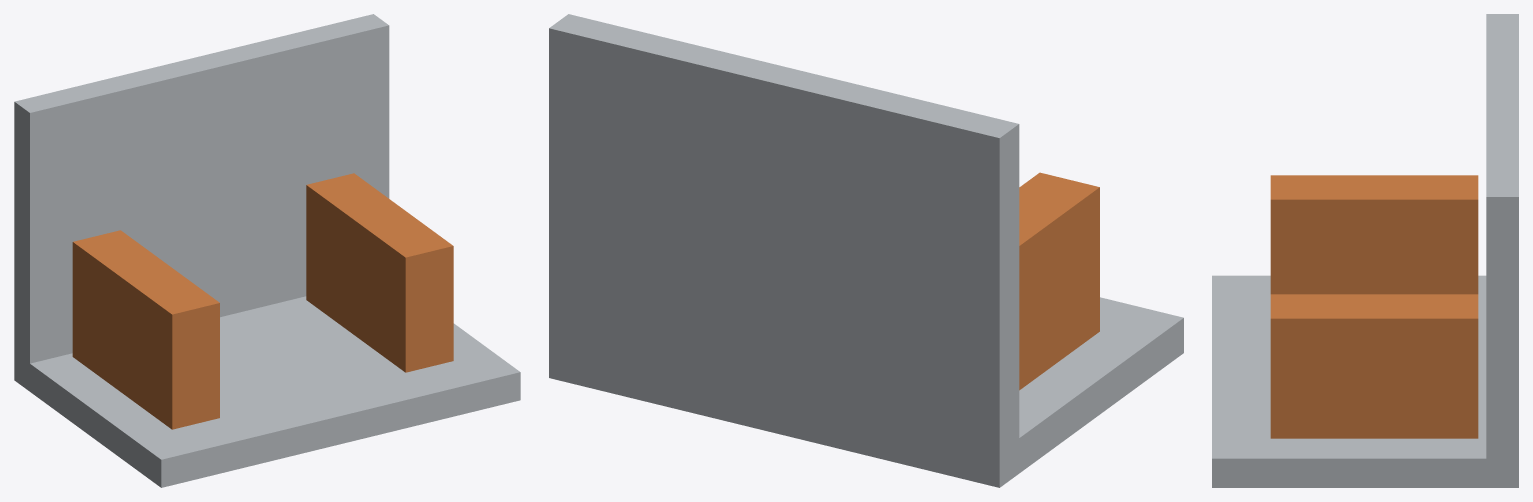
File: interaction-demo.gltf
The picture shows the model from 3 angles, left to right: view 1: azimuth 30°, elevation 25°; view 2: azimuth 150°, elevation 25°; view 3: azimuth 270°, elevation 25°; orthographic projection. The views are drawn at different scales.
Bounding box in the file's own units: 2.4 × 1.78 × 1.7.
